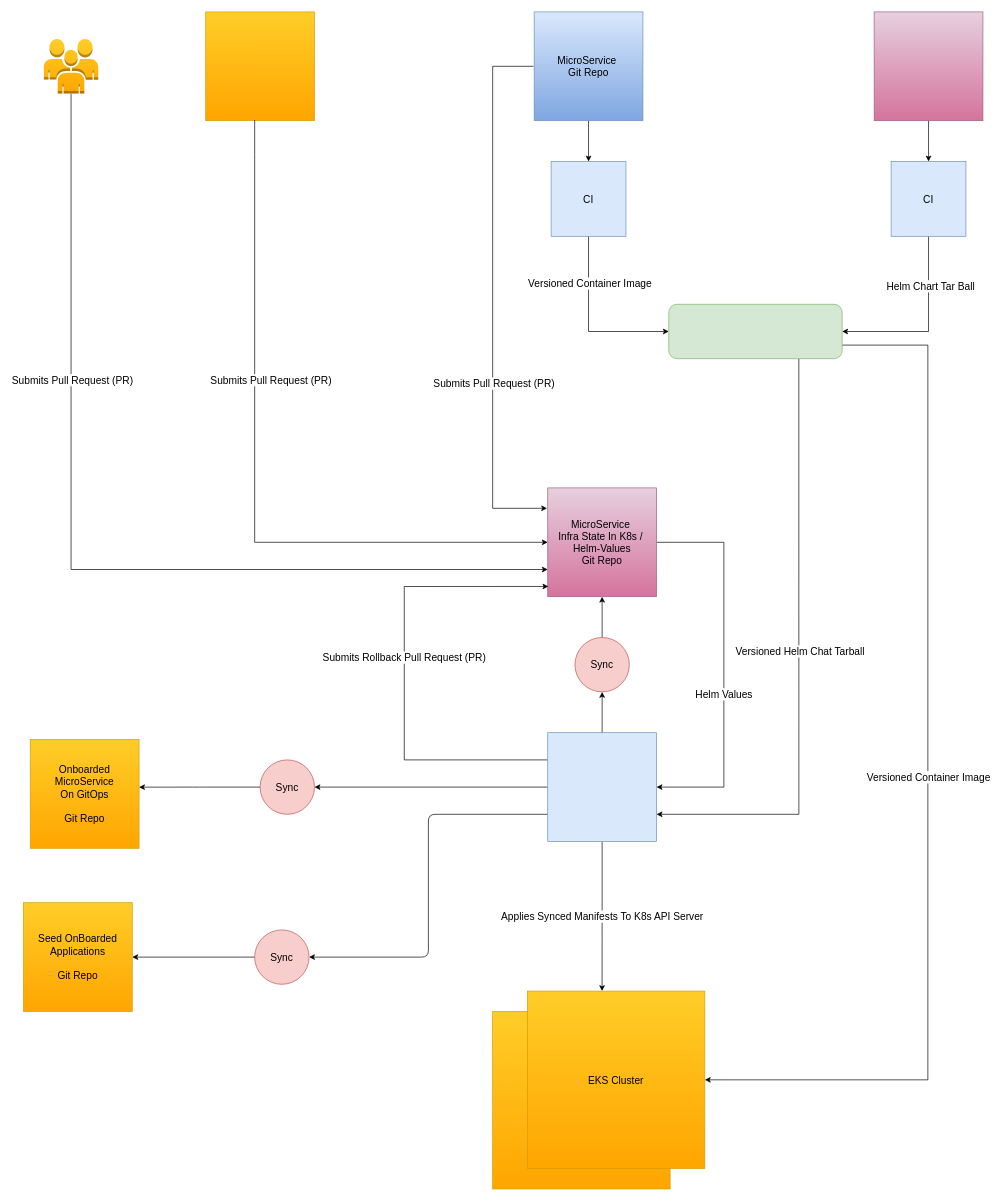
This 1002x1201 diagram has some shape labels left out. The shapes that lost their labels are listed below. From the top down, each one's centre as x and y in pixels, then its label:
point (70, 66): SRE
point (259, 66): MicroService Externalized Properties, Secrets & Configuration Git Repo
point (928, 66): Helm-Template Git Repo
point (755, 331): Private Artifact Repository
point (602, 787): Argo CD
